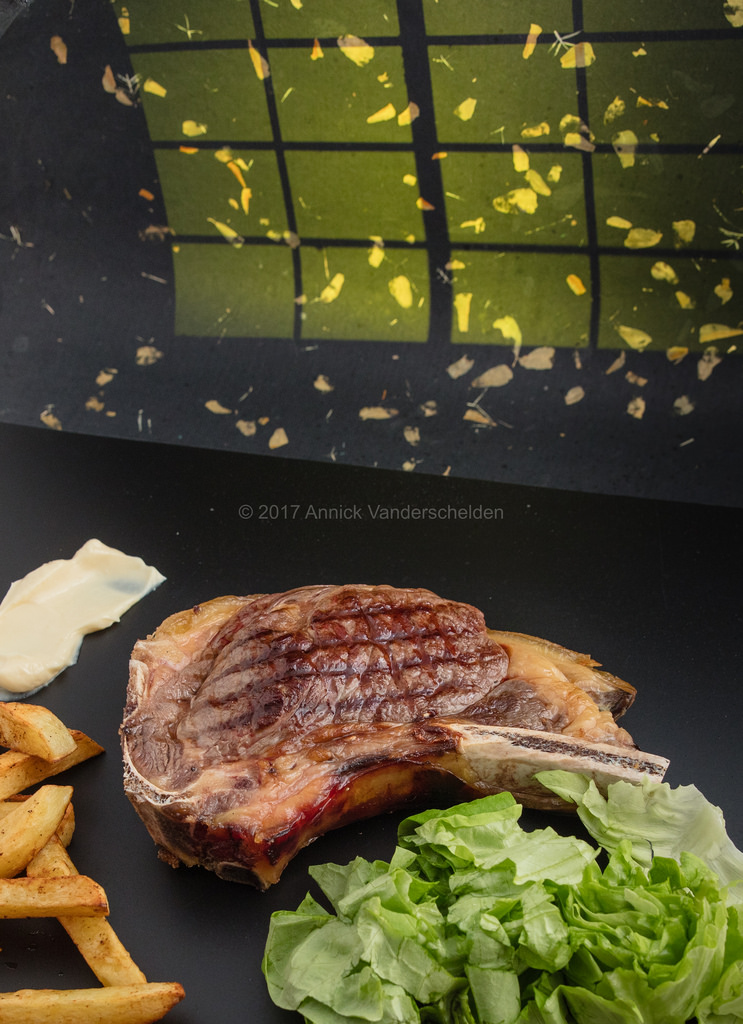chopped lettuce: (362, 855, 688, 989)
